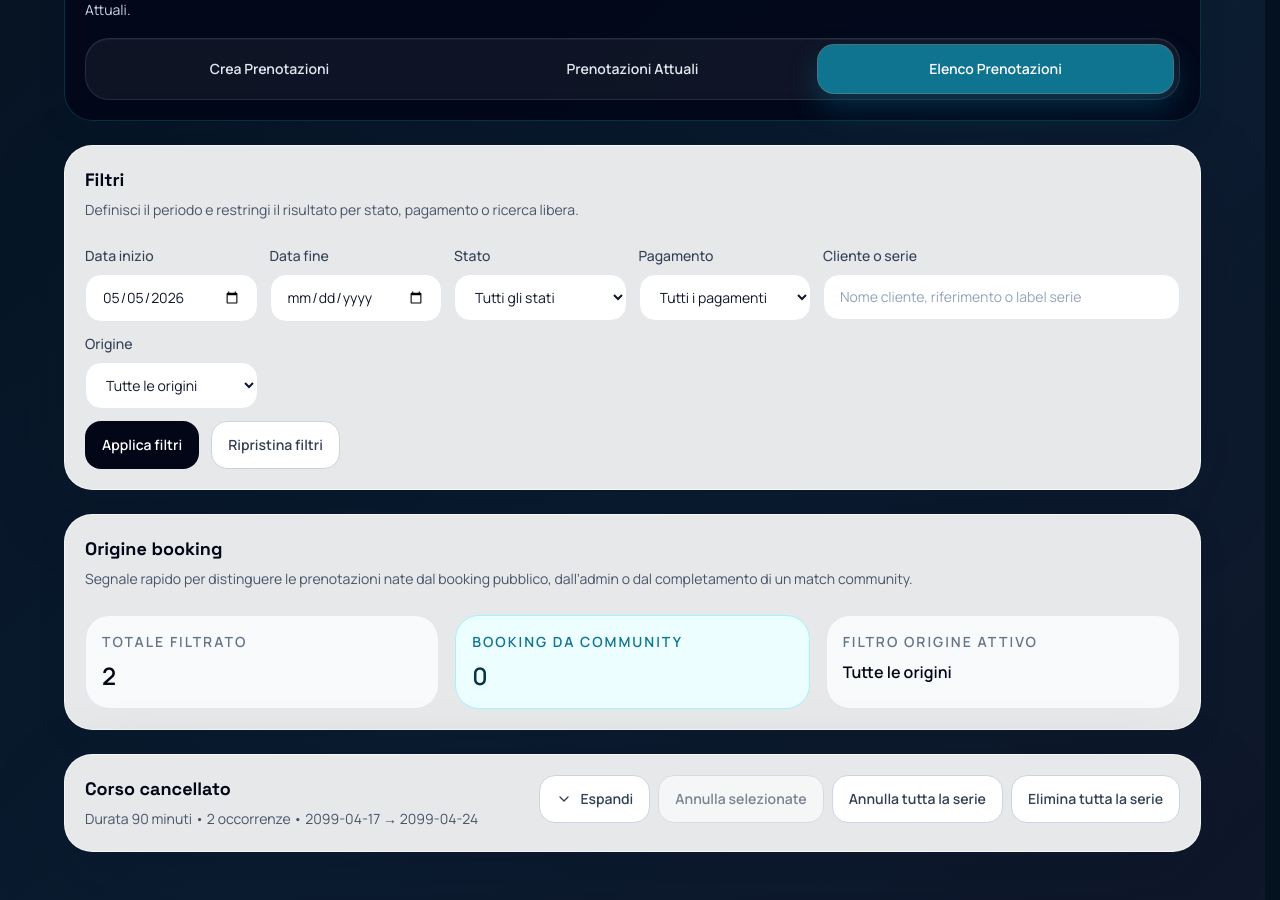
Test: AdminBookingsPage › deletes a cancelled recurring series from the grouped actions
The image size is (1280, 900).
(page scrolled)
expect the heading "Corso cancellato" is shown: met, box [85,777,231,800]
What coordinates should you click on to do the following:
click the button "Elimina tutta la serie"
I would click on:
 (1096, 799)
Its box is [1011,775,1180,823].
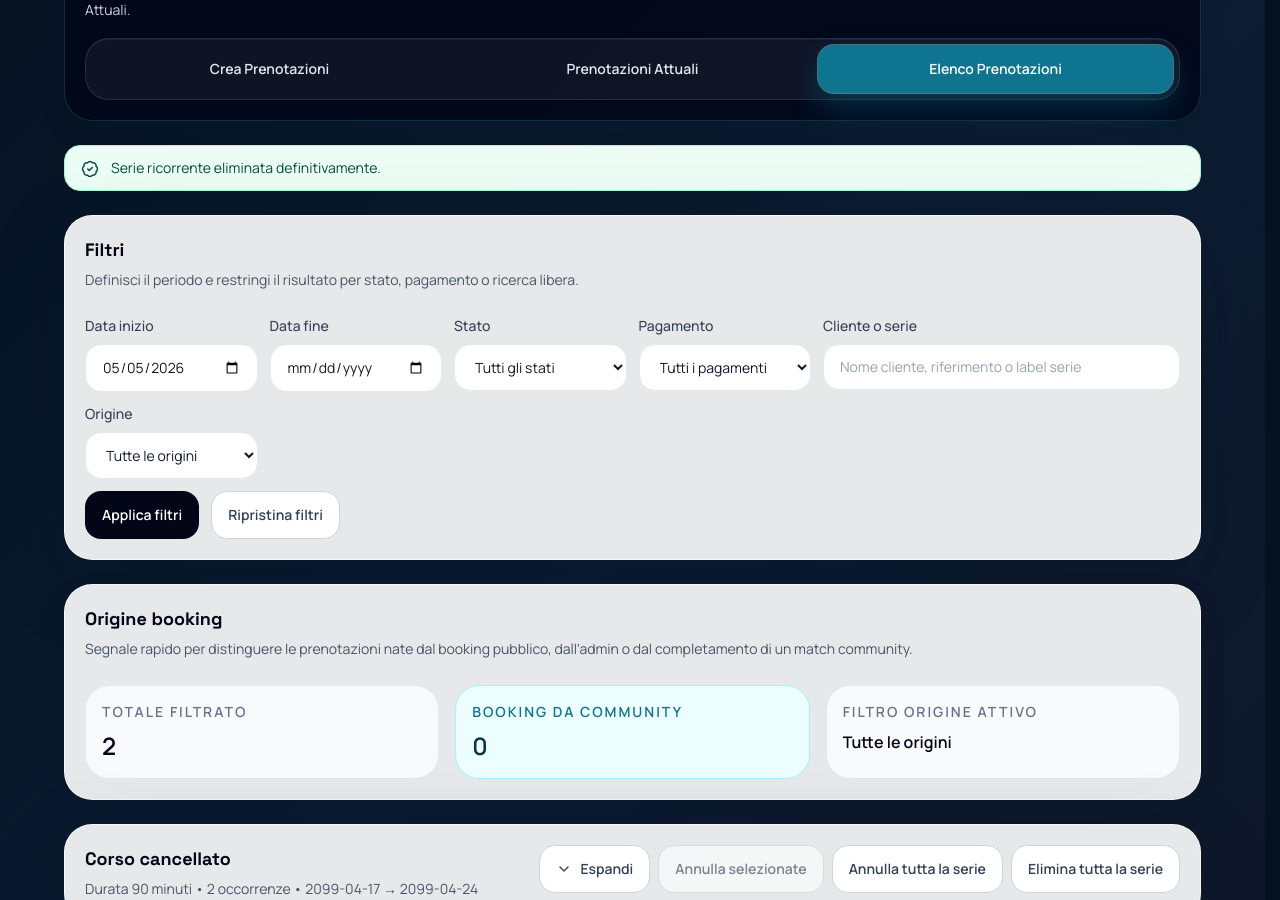
expect the text "Serie ricorrente eliminata definitivamente." is shown: met, box [111,158,381,178]
